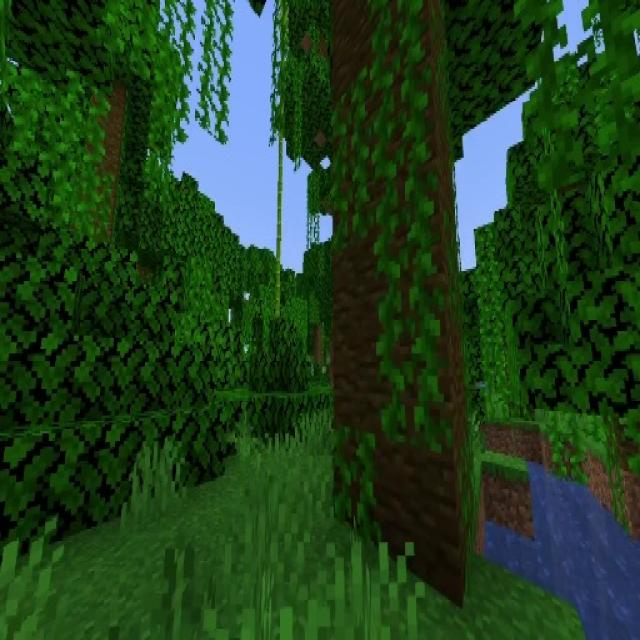jungle_log: (328, 0, 475, 601), (85, 75, 124, 242)
